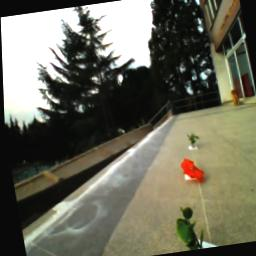herb: (171, 202, 205, 252), (184, 131, 200, 148)
wild: (179, 156, 206, 186)
